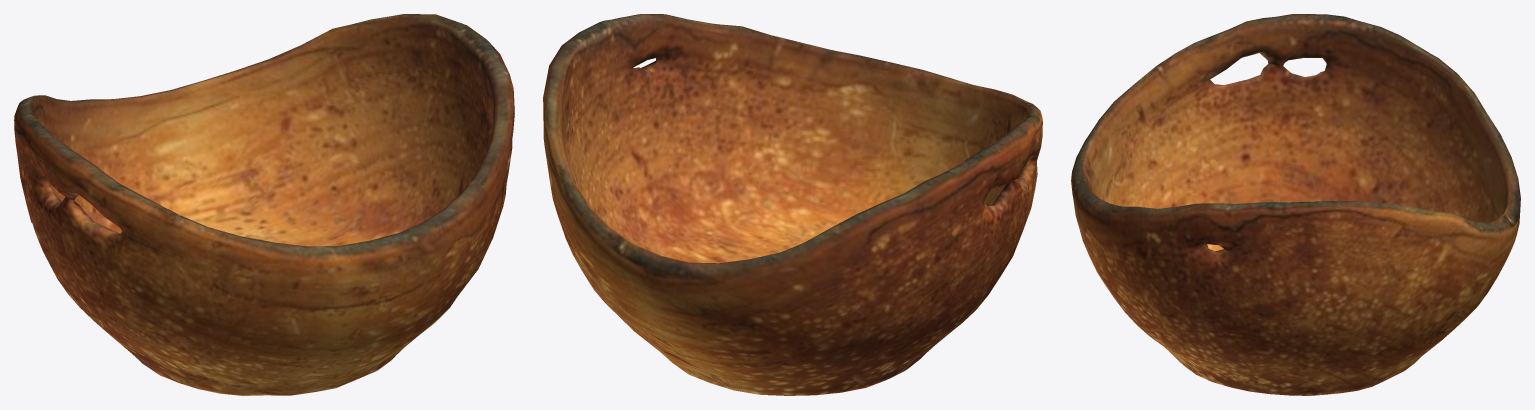
File: wooden_bowl_02.glb
The picture shows the model from 3 angles, left to right: view 1: azimuth 30°, elevation 25°; view 2: azimuth 150°, elevation 25°; view 3: azimuth 270°, elevation 25°; orthographic projection. The views are drawn at different scales.
Visible parts, largest first — view 1: wooden_bowl_02; view 2: wooden_bowl_02; view 3: wooden_bowl_02.
Part boxes in pixels (bbox=[...]): wooden_bowl_02: bbox=[14, 14, 514, 395]; wooden_bowl_02: bbox=[543, 14, 1042, 395]; wooden_bowl_02: bbox=[1071, 14, 1520, 395].
Bounding box in the file's own units: 0.1307 × 0.0731 × 0.1245.
1 material, 1 textured.
